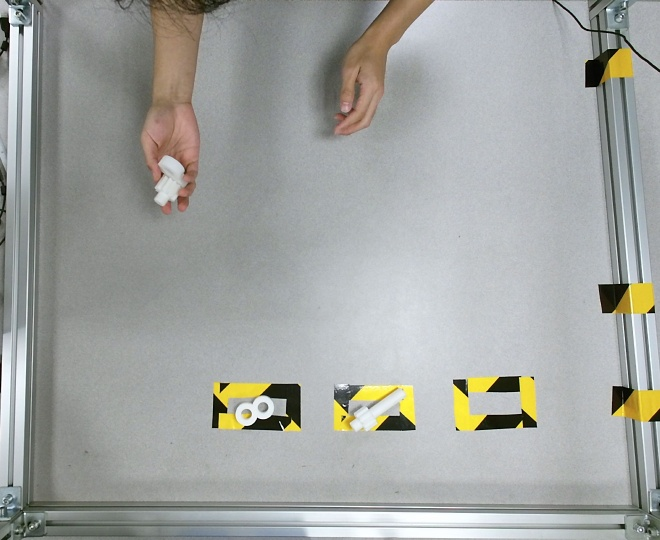stage_2: (151, 154, 188, 205)
